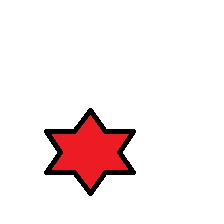star: (44, 107, 137, 199)
